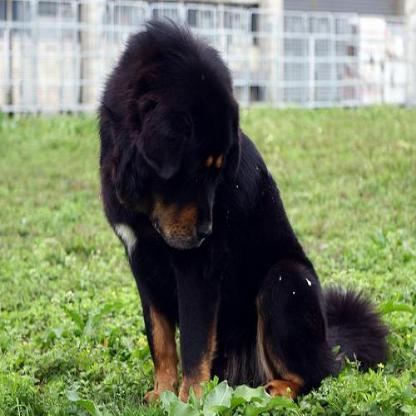Tibetan_mastiff: (93, 13, 390, 408)
